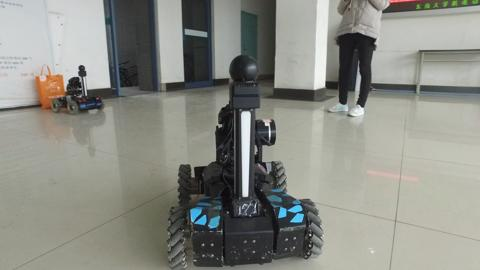bag: (34, 60, 65, 111)
chariot: (164, 53, 327, 270), (48, 63, 106, 115)
